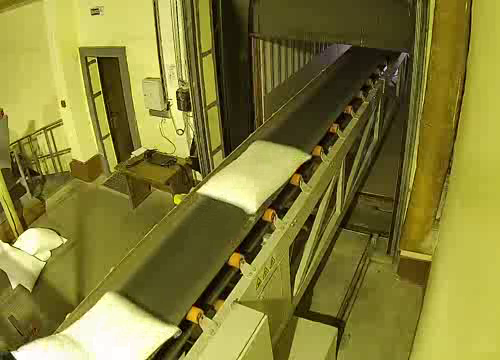bag: (8, 286, 183, 360), (191, 139, 315, 217)
